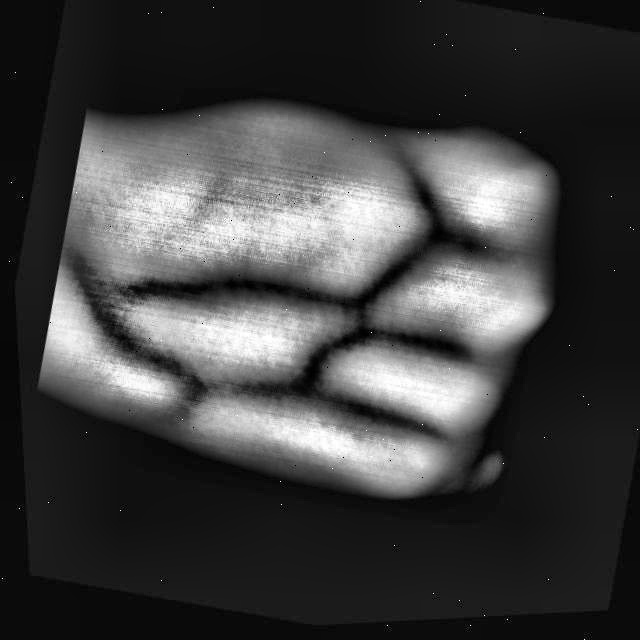Vein: (146, 260, 357, 321)
